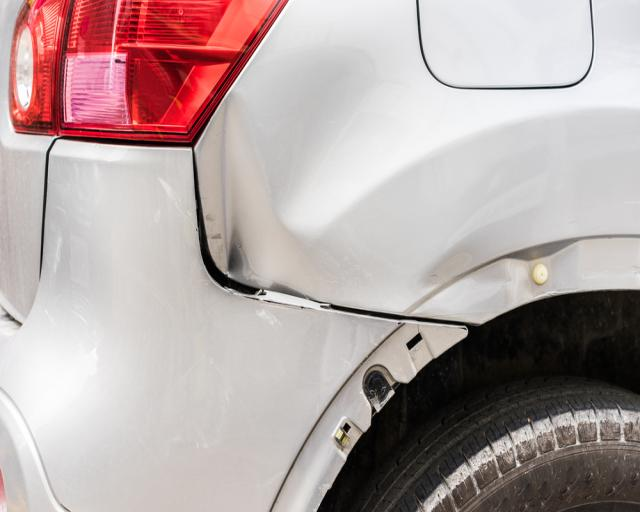dent: (218, 58, 381, 289), (423, 243, 510, 305)
